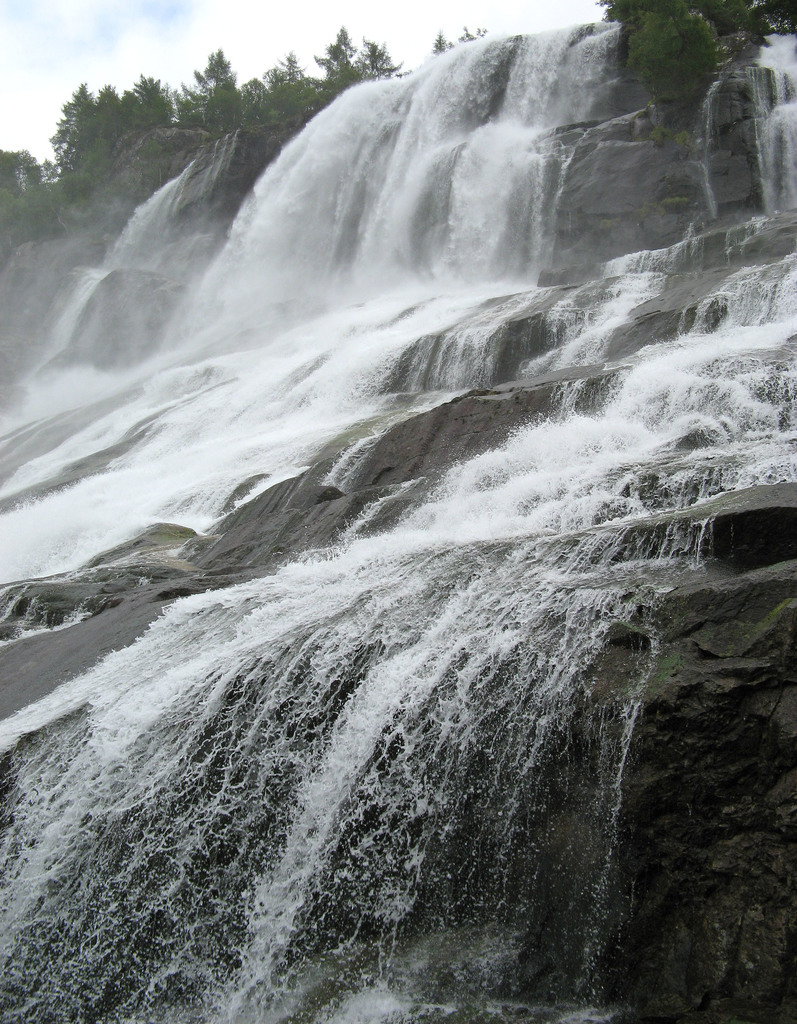Tree: (0, 29, 375, 244), (598, 0, 763, 74)
